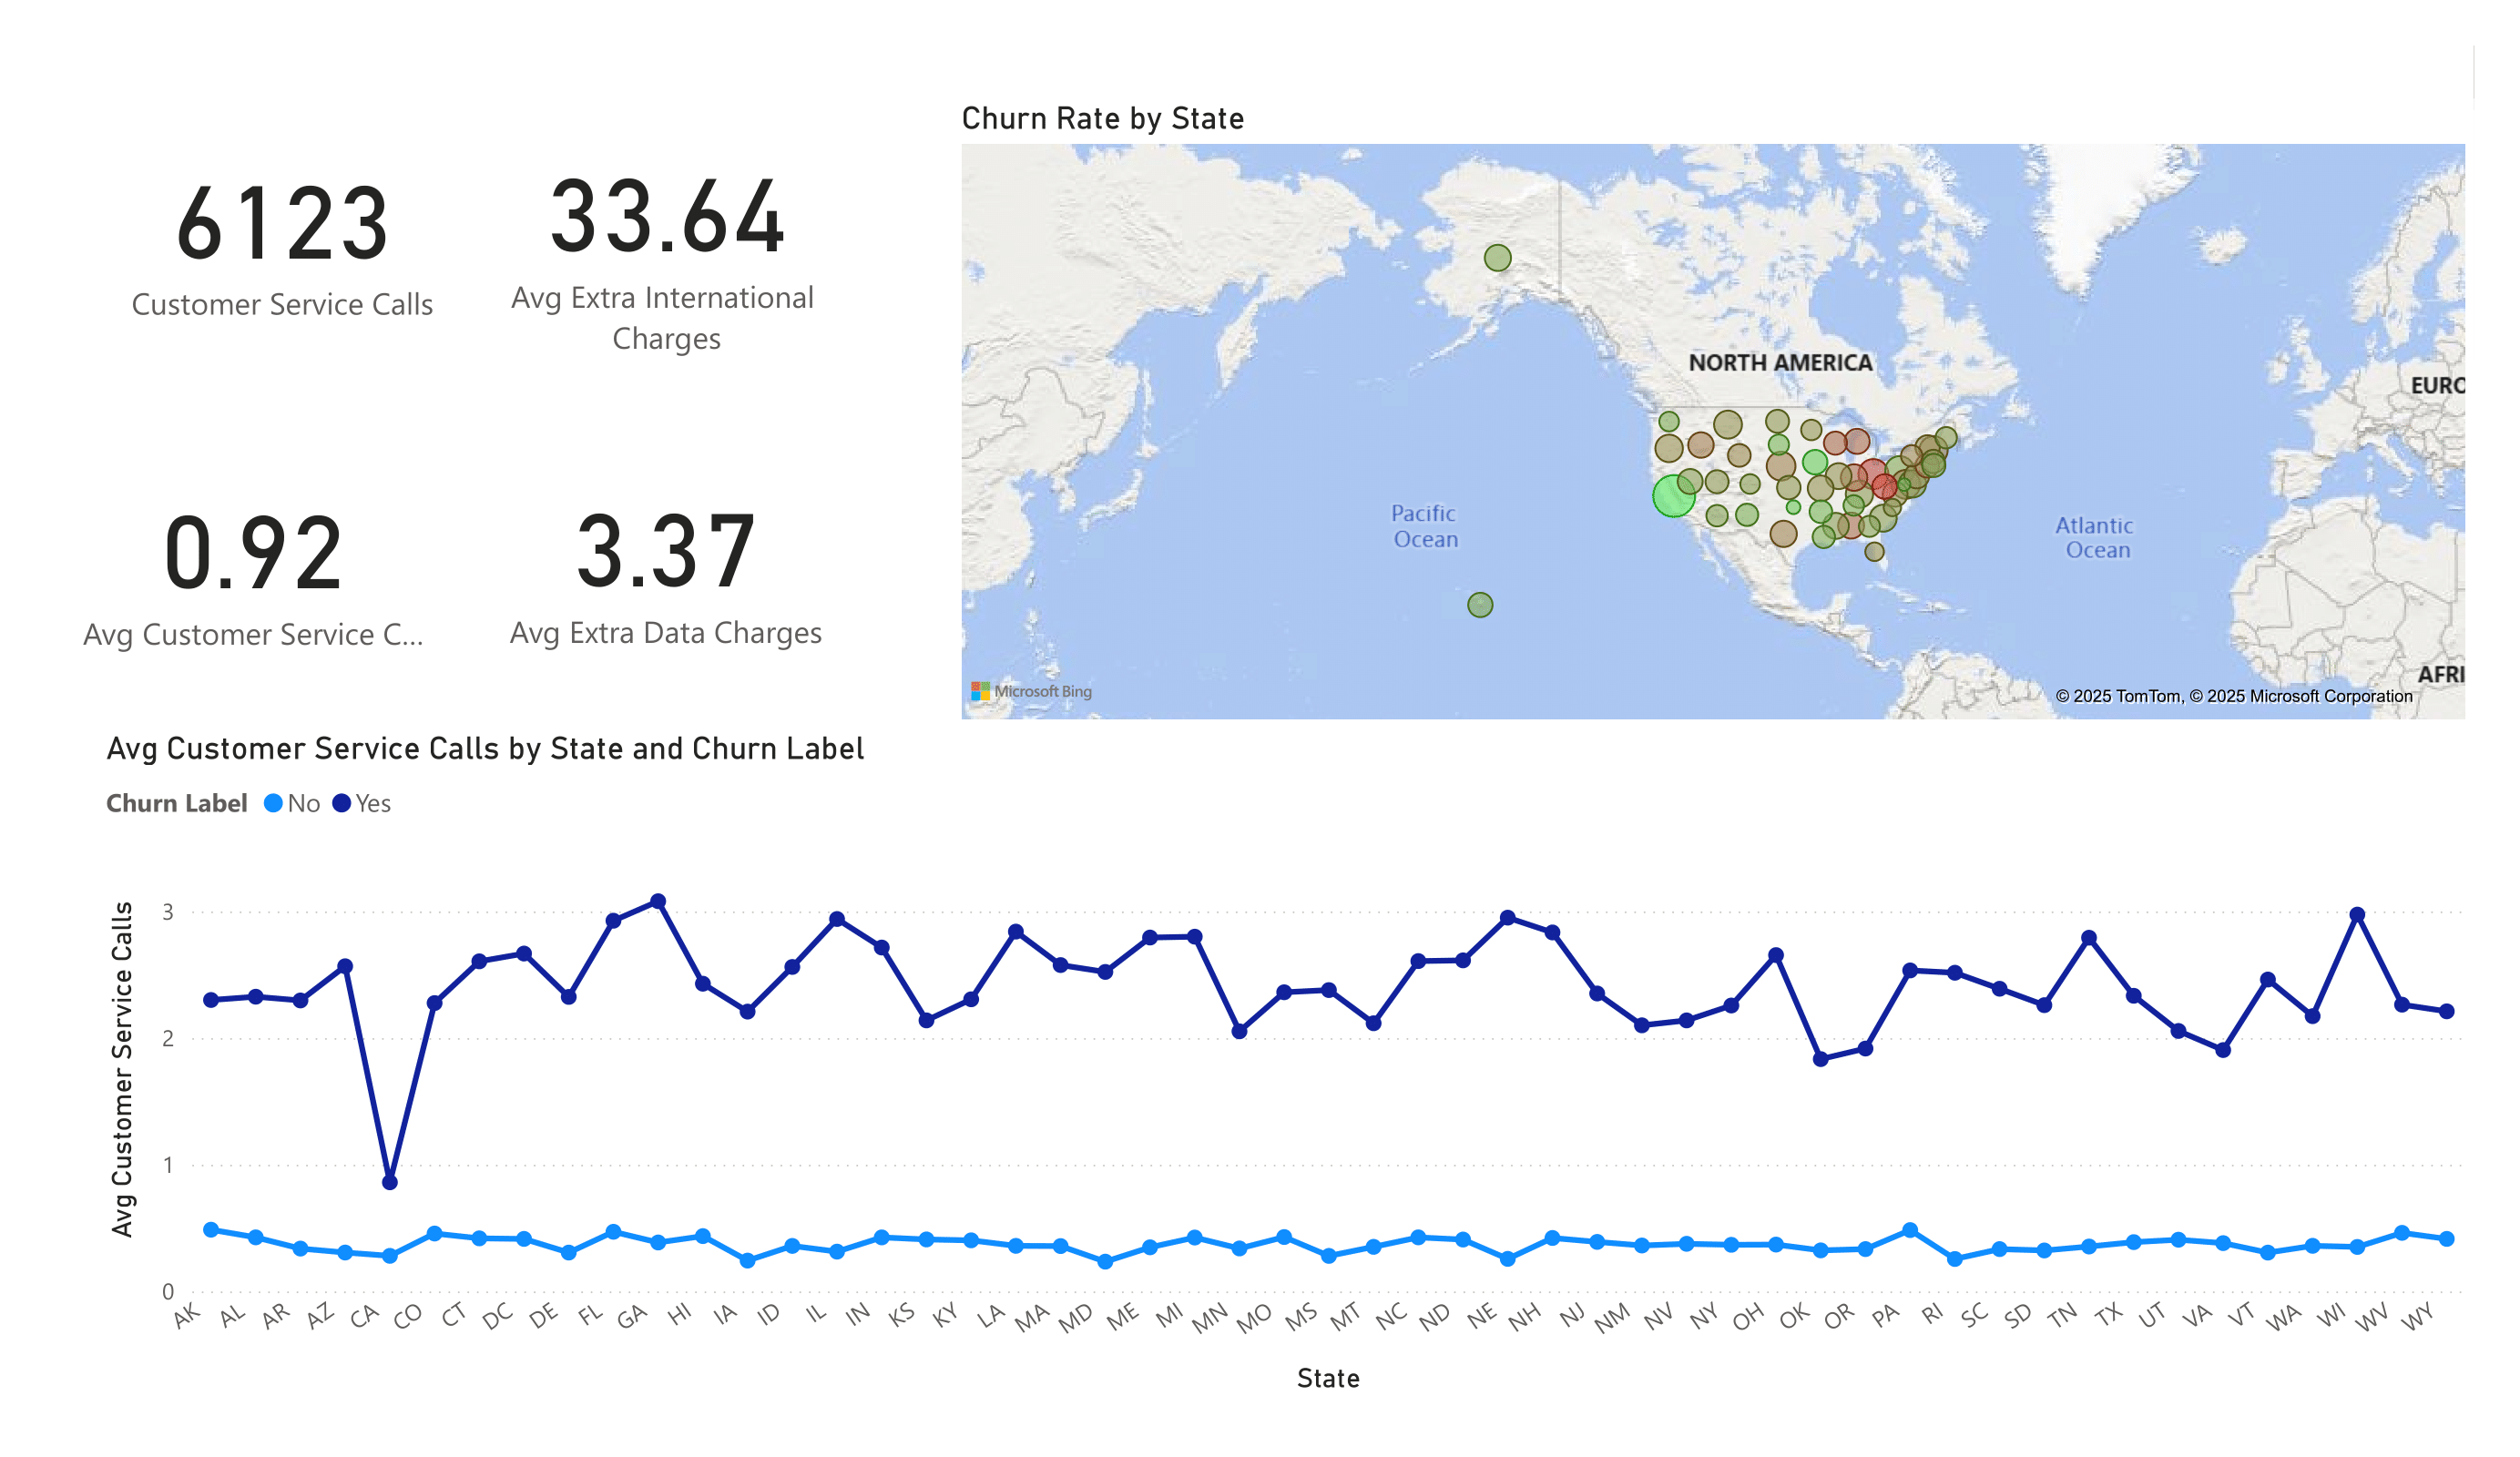

Layout of this report page (visuals, bound fields, positions):
{"tool":"powerbi","page":{"name":"Insights","canvas":[1280,720],"ordinal":9},"visuals":[{"type":"card","fields":{"Values":["Sum(Databel - Data.Customer Service Calls)"]},"box":[9.3,0,280.1,101.4],"z":0},{"type":"card","fields":{"Values":["Databel - Data.Avg Customer Service Calls"]},"box":[18.7,101.4,280.1,108],"z":2},{"type":"card","fields":{"Values":["Databel - Data.Avg Extra International Charges"]},"box":[9.3,209.4,298.7,121.4],"z":4},{"type":"card","fields":{"Values":["Databel - Data.Avg Extra Data Charges"]},"box":[9.3,330.7,298.7,117.4],"z":5},{"type":"lineChart","fields":{"Y":["Databel - Data.Avg Customer Service Calls"],"Series":["Databel - Data.Churn Label"],"Category":["Databel - Data.State"]},"box":[9.3,448.1,1270.9,262.7],"z":7},{"type":"map","fields":{"Category":["Databel - Data.State"],"Size":["Sum(Databel - Data.Customer Service Calls)"]},"box":[290,0,990,420],"z":8}]}

Visuals, with their boxes on the page's 1280x720 design canvas (x1, y1, x2, y2). These are canvas units, not pixel positions in the 2520x1457 screenshot, which may show the page scaled, cropped or inside an application window:
card - Sum(Databel - Data.Customer Service Calls): <region>9, 0, 289, 101</region>
card - Databel - Data.Avg Customer Service Calls: <region>19, 101, 299, 209</region>
card - Databel - Data.Avg Extra International Charges: <region>9, 209, 308, 331</region>
card - Databel - Data.Avg Extra Data Charges: <region>9, 331, 308, 448</region>
lineChart - Databel - Data.Avg Customer Service Calls x Databel - Data.Churn Label: <region>9, 448, 1280, 711</region>
map - Databel - Data.State x Sum(Databel - Data.Customer Service Calls): <region>290, 0, 1280, 420</region>
